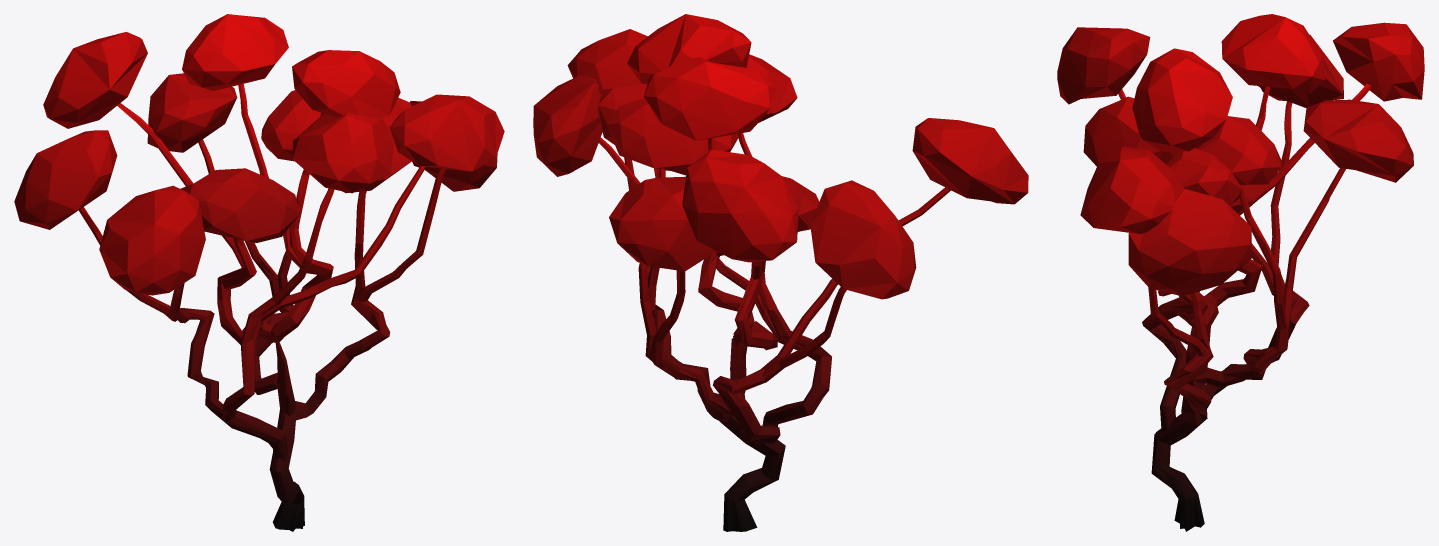
File: TreeHiatus09.fbx
3 views of the same model, side by side, from view 1: azimuth 30°, elevation 25°; view 2: azimuth 150°, elevation 25°; view 3: azimuth 270°, elevation 25° (orthographic). The views are drawn at different scales.
Parts seen in each view (by area): view 1: TreeHiatus09_LOD0; view 2: TreeHiatus09_LOD0; view 3: TreeHiatus09_LOD0.
Boxes of the visible parts, box(x1,y1,x2,y2) form: TreeHiatus09_LOD0: box(14, 14, 504, 531); TreeHiatus09_LOD0: box(533, 14, 1028, 531); TreeHiatus09_LOD0: box(1057, 14, 1424, 531).
Size of what is drawn, in the model's own units: 2411 by 2657 by 1769.
